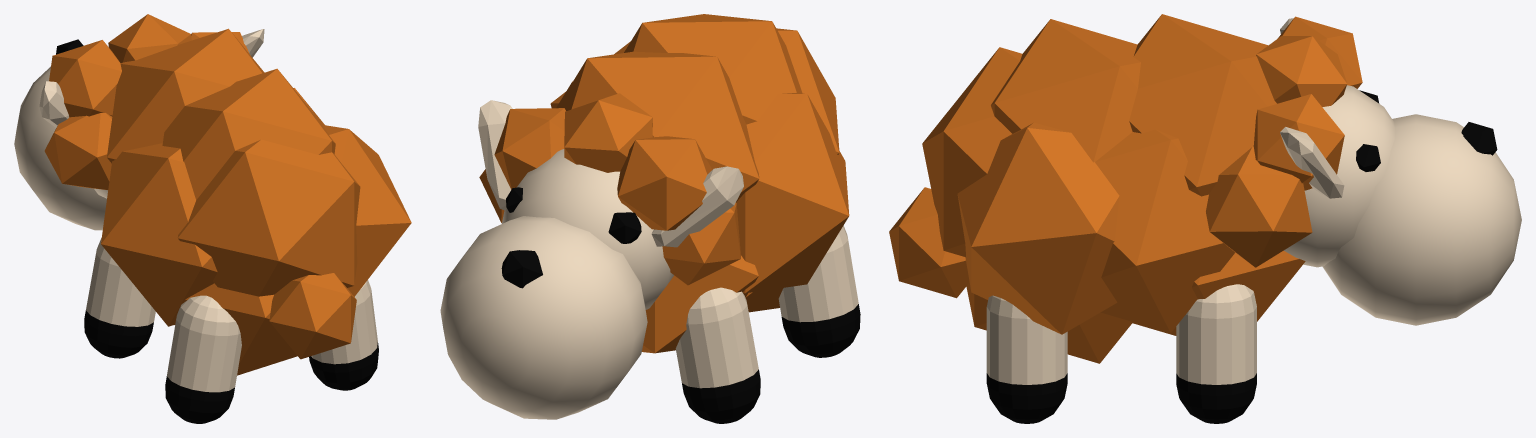
Rendered from sheep.dae.
3 views of the same model, side by side, from view 1: azimuth 30°, elevation 25°; view 2: azimuth 150°, elevation 25°; view 3: azimuth 270°, elevation 25° (orthographic). The views are drawn at different scales.
Visible parts, largest first — view 1: sheep; view 2: sheep; view 3: sheep.
Boxes of the visible parts, x1=… form: sheep: x1=14, y1=14, x2=411, y2=423; sheep: x1=440, y1=14, x2=860, y2=423; sheep: x1=889, y1=14, x2=1521, y2=423.
Bounding box in the file's own units: 2.87 × 5.05 × 3.03.
